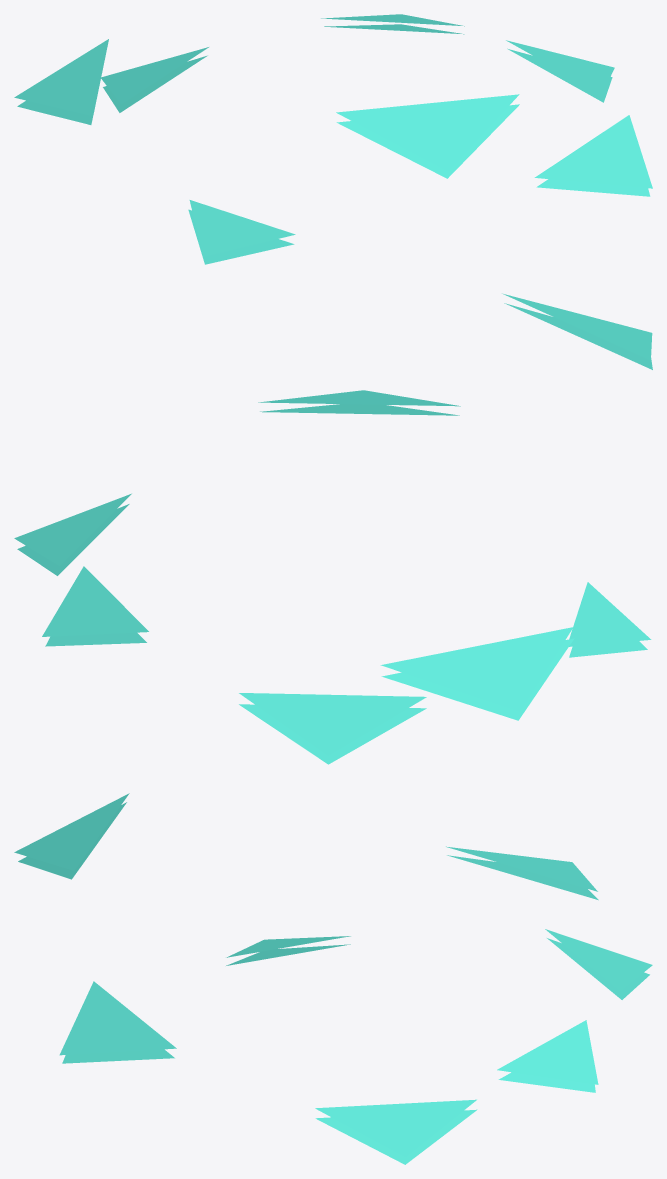
The model's file is plant_fan_teal_glow.fbx.
3 renders of one model, top to bottom at view 1: azimuth 30°, elevation 25°; view 2: azimuth 150°, elevation 25°; view 3: azimuth 270°, elevation 25°, orthographic. The views are drawn at different scales.
Parts seen in each view (by area): view 1: plant_fan_teal_glow; view 2: plant_fan_teal_glow; view 3: plant_fan_teal_glow.
Boxes of the visible parts, x1,y1,x2,y2 form: plant_fan_teal_glow: (14,14,652,264); plant_fan_teal_glow: (14,293,652,764); plant_fan_teal_glow: (14,793,652,1164).
Size of the model in its own units: 942 by 321 by 987.
Materials: 1 (1 with a texture image).
